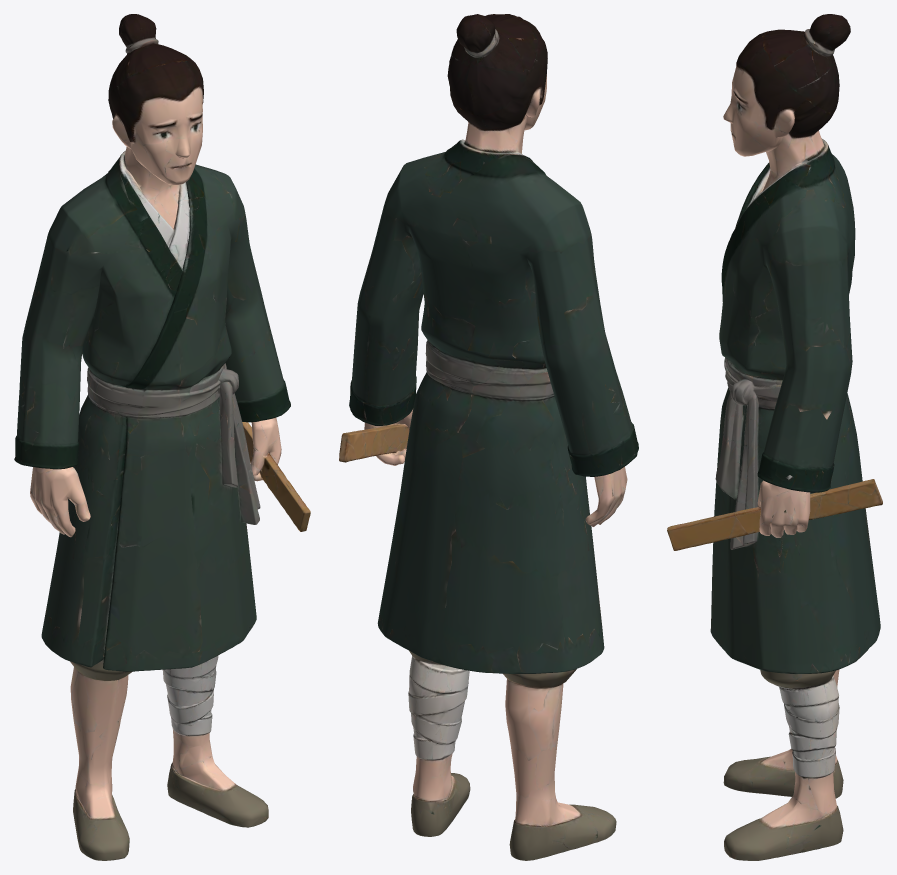
The model's file is courier.glb.
The picture shows the model from 3 angles, left to right: view 1: azimuth 30°, elevation 25°; view 2: azimuth 150°, elevation 25°; view 3: azimuth 270°, elevation 25°; orthographic projection. The views are drawn at different scales.
Bounding box in the file's own units: 0.6714 × 1.9 × 0.4634.
1 material, 1 textured.
